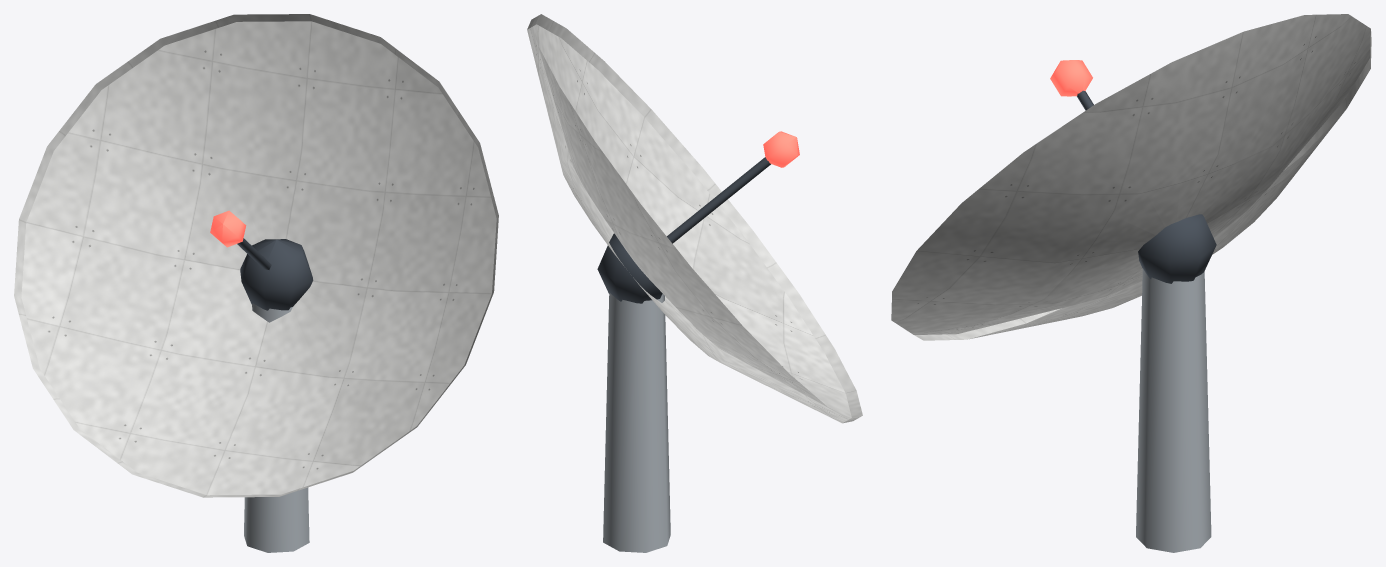
The model's file is prop_dish_pylon.glb.
The picture shows the model from 3 angles, left to right: view 1: azimuth 30°, elevation 25°; view 2: azimuth 150°, elevation 25°; view 3: azimuth 270°, elevation 25°; orthographic projection. The views are drawn at different scales.
Visible parts, largest first — view 1: prop_dish_pylon_LOD0; view 2: prop_dish_pylon_LOD0; view 3: prop_dish_pylon_LOD0.
Part boxes in pixels (box(x1,y1,x2,y2)): prop_dish_pylon_LOD0: box(14, 14, 498, 552); prop_dish_pylon_LOD0: box(527, 14, 862, 552); prop_dish_pylon_LOD0: box(891, 14, 1371, 552).
Size of what is drawn, in the model's own units: 4.18 by 5.52 by 4.45.
2 materials, 2 textured.
